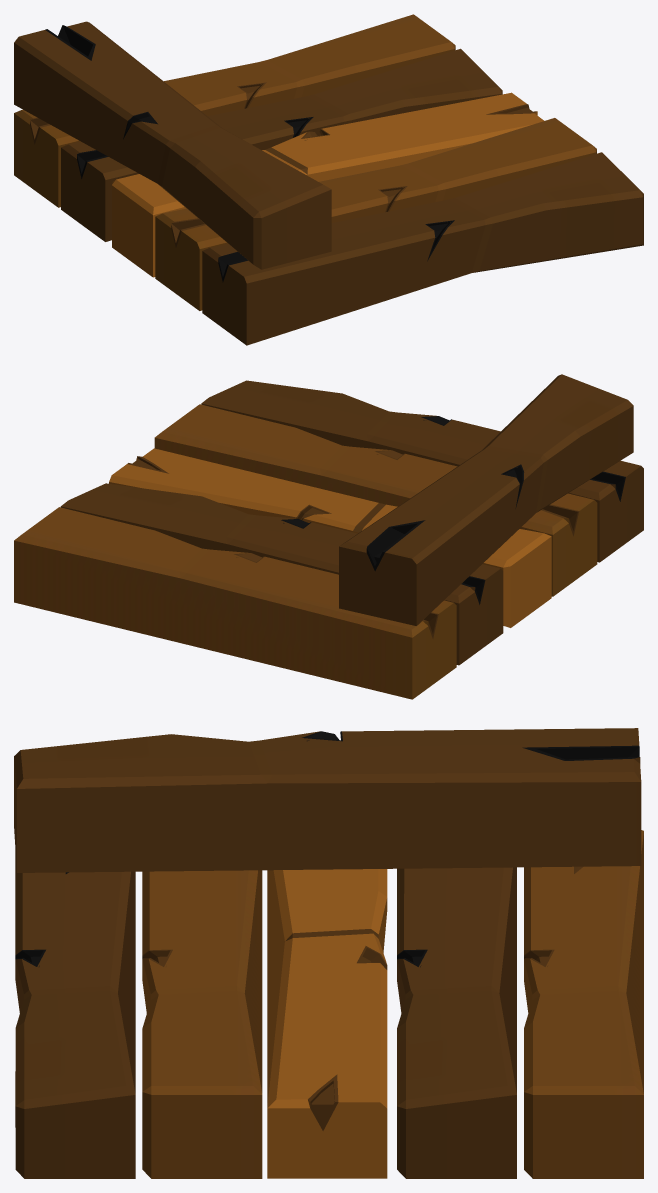
The model's file is MadeiraChao2.glb.
3 views of the same model, one above another, from view 1: azimuth 30°, elevation 25°; view 2: azimuth 150°, elevation 25°; view 3: azimuth 270°, elevation 25° (orthographic). The views are drawn at different scales.
Visible parts, largest first — view 1: MadeiraChao2; view 2: MadeiraChao2; view 3: MadeiraChao2.
Part boxes in pixels (<box>): MadeiraChao2: <box>14,14,643,345</box>; MadeiraChao2: <box>14,374,643,699</box>; MadeiraChao2: <box>14,728,643,1178</box>.
Bounding box in the file's own units: 1.96 × 0.6519 × 1.97.
1 material, 1 textured.
